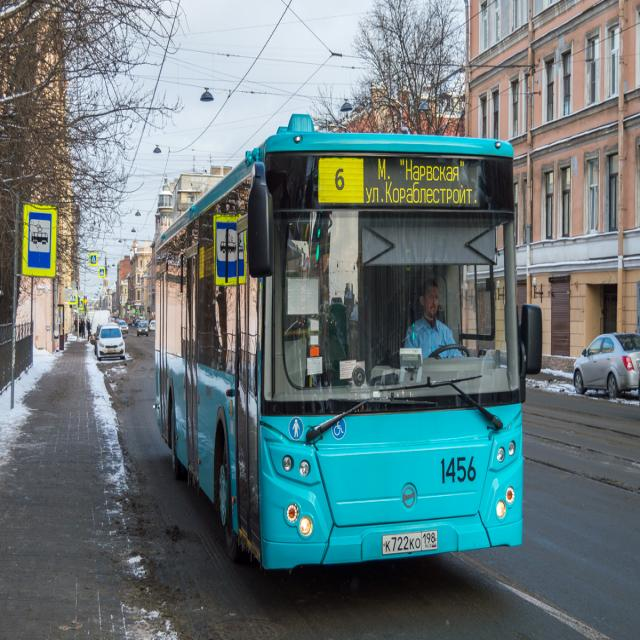number-of-bus: (333, 162, 349, 197)
